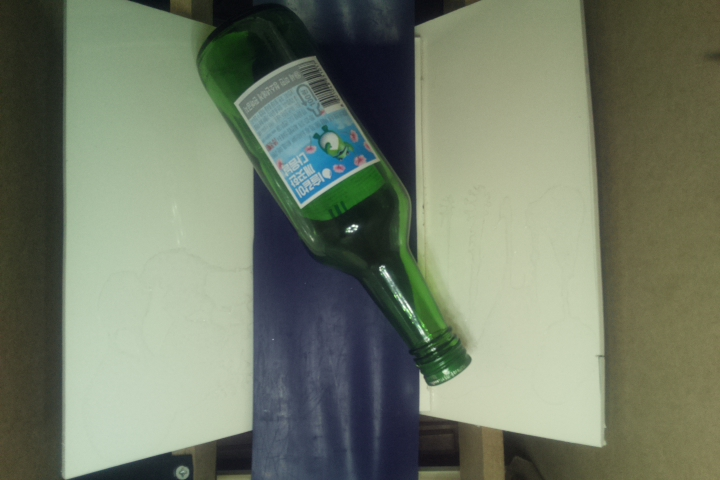soju: (193, 1, 471, 388)
